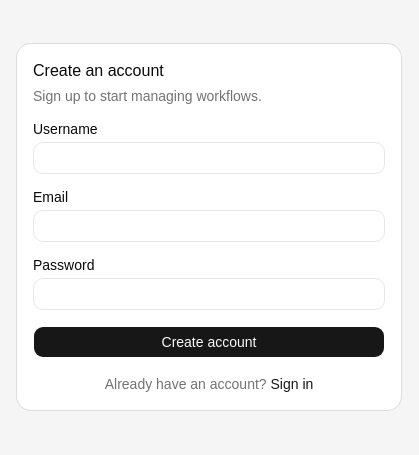
Test: RegisterPage › shows server error on conflict
Type "alice" into the field labelled "Username" at x=209, y=158, box x1=33 y1=142 x2=385 y2=174
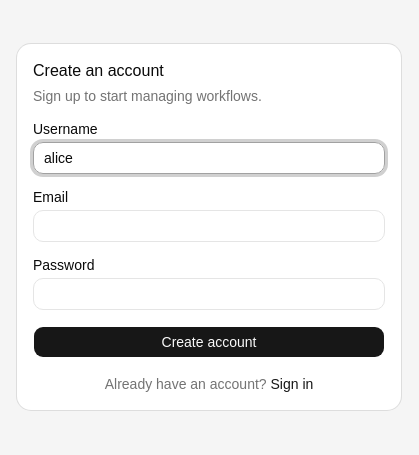
Type "exists@example.com" into the field labelled "Email" at x=209, y=226, box x1=33 y1=210 x2=385 y2=242
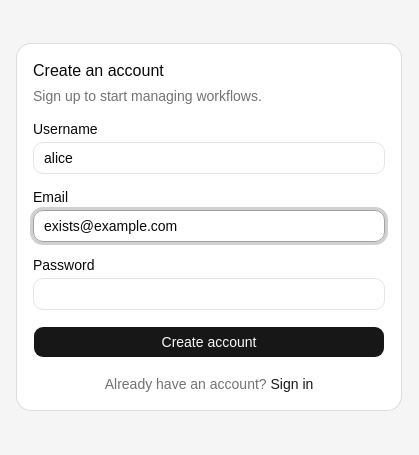
Type "password123" into the password field labelled "Password" at x=209, y=294, box x1=33 y1=278 x2=385 y2=310
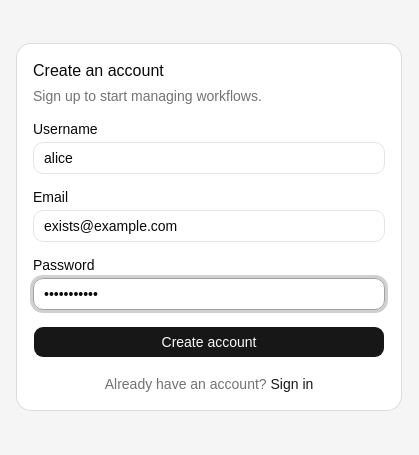
Click the button "Create account" at x=209, y=342, box x1=33 y1=326 x2=385 y2=358
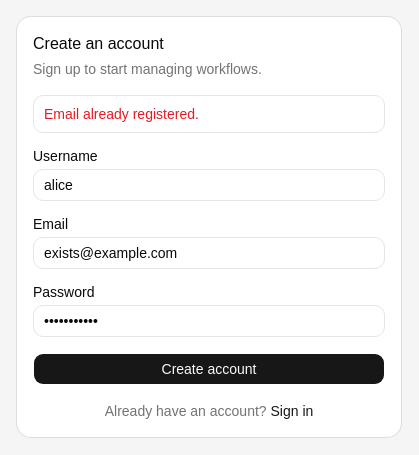
Expected: the text "Email already registered." is shown, x1=44 y1=106 x2=199 y2=122
